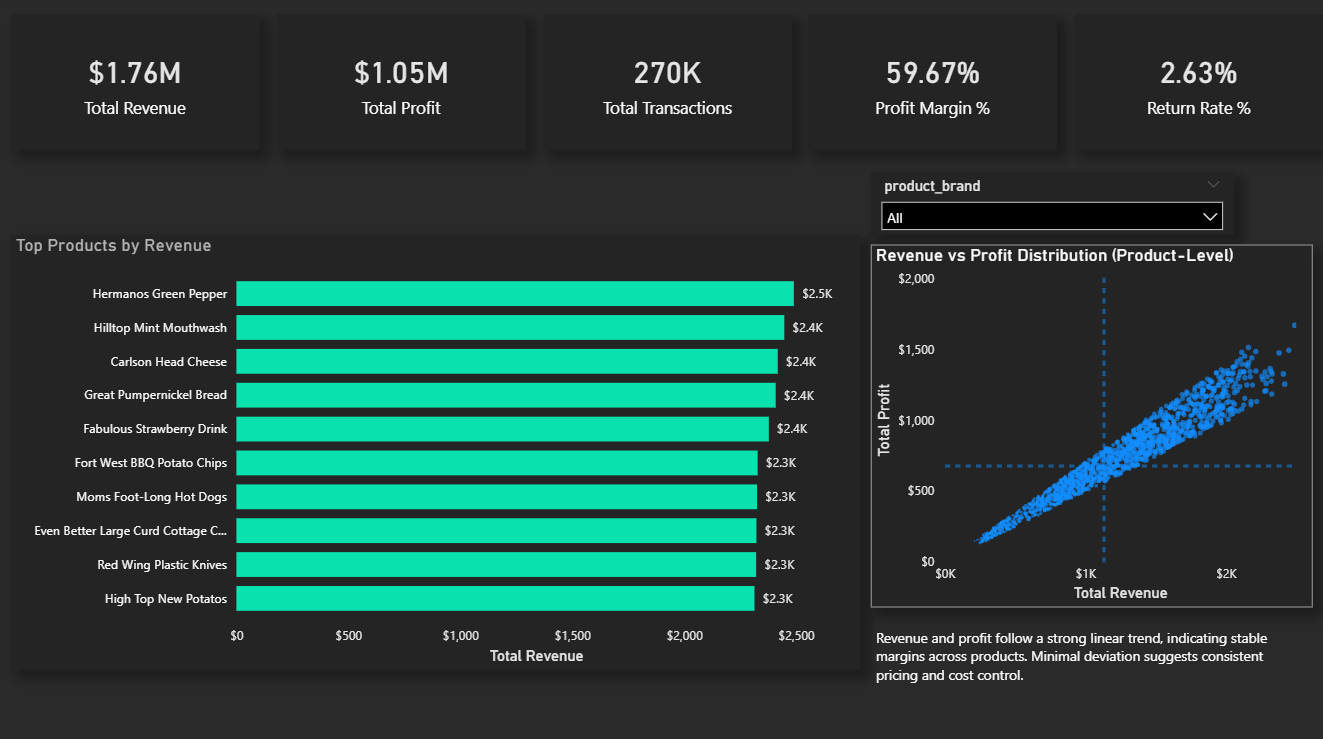

This screenshot's page, from the dashboard's own definition file:
{"tool":"powerbi","page":{"name":"Product Performance","canvas":[1280,720],"ordinal":2},"visuals":[{"type":"card","fields":{"Values":["Metrics.Total Revenue"]},"box":[13.3,16.9,240.1,130.3],"z":0},{"type":"card","fields":{"Values":["Metrics.Total Profit"]},"box":[269.9,16.9,240.1,130.3],"z":1000},{"type":"card","fields":{"Values":["Metrics.Return Rate %"]},"box":[1039.9,16.9,240.1,130.3],"z":2000},{"type":"card","fields":{"Values":["Metrics.Profit Margin %"]},"box":[783.3,16.9,240.1,130.3],"z":3000},{"type":"card","fields":{"Values":["Metrics.Total Transactions"]},"box":[526.6,16.9,240.1,130.3],"z":4000},{"type":"slicer","fields":{"Values":["Products.product_brand"]},"box":[843.3,168.9,350,60.3],"z":5000},{"type":"clusteredBarChart","title":"Top Products by Revenue","fields":{"Category":["Products.product_name"],"Y":["Metrics.Total Revenue"]},"box":[13.3,229.2,820.4,419.8],"z":6000},{"type":"scatterChart","title":"Revenue vs Profit Distribution (Product-Level)","fields":{"X":["Metrics.Total Revenue"],"Y":["Metrics.Total Profit"],"Category":["Products.product_name"],"Size":["Metrics.Total Revenue"]},"box":[843.3,238.9,425.9,350],"z":7000},{"type":"textbox","box":[843.3,604.4,425.9,106.2],"z":8000}]}

Visuals, with their boxes in screenshot pixels (x1, y1, x2, y2), scaled from the page's 1280x720 canvas onto the 1323x739 screenshot:
card - Metrics.Total Revenue: <bbox>14, 17, 262, 151</bbox>
card - Metrics.Total Profit: <bbox>279, 17, 527, 151</bbox>
card - Metrics.Return Rate %: <bbox>1075, 17, 1322, 151</bbox>
card - Metrics.Profit Margin %: <bbox>810, 17, 1058, 151</bbox>
card - Metrics.Total Transactions: <bbox>544, 17, 792, 151</bbox>
slicer - Products.product_brand: <bbox>872, 173, 1233, 235</bbox>
"Top Products by Revenue" clusteredBarChart: <bbox>14, 235, 862, 666</bbox>
"Revenue vs Profit Distribution (Product-Level)" scatterChart: <bbox>872, 245, 1312, 604</bbox>
textbox: <bbox>872, 620, 1312, 729</bbox>
